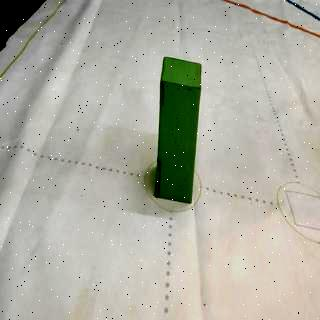greenbox: (158, 57, 200, 204)
